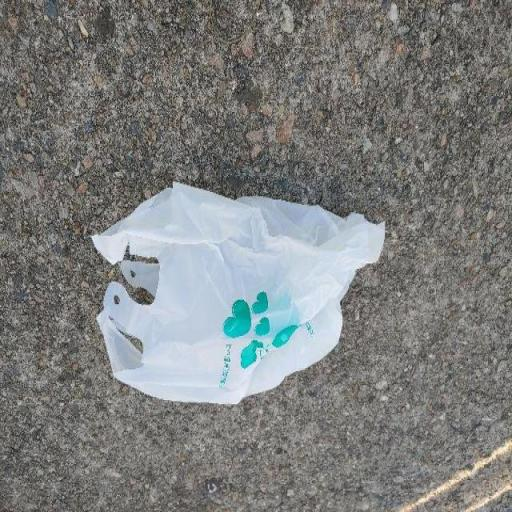plastic-bag: (87, 178, 378, 408)
